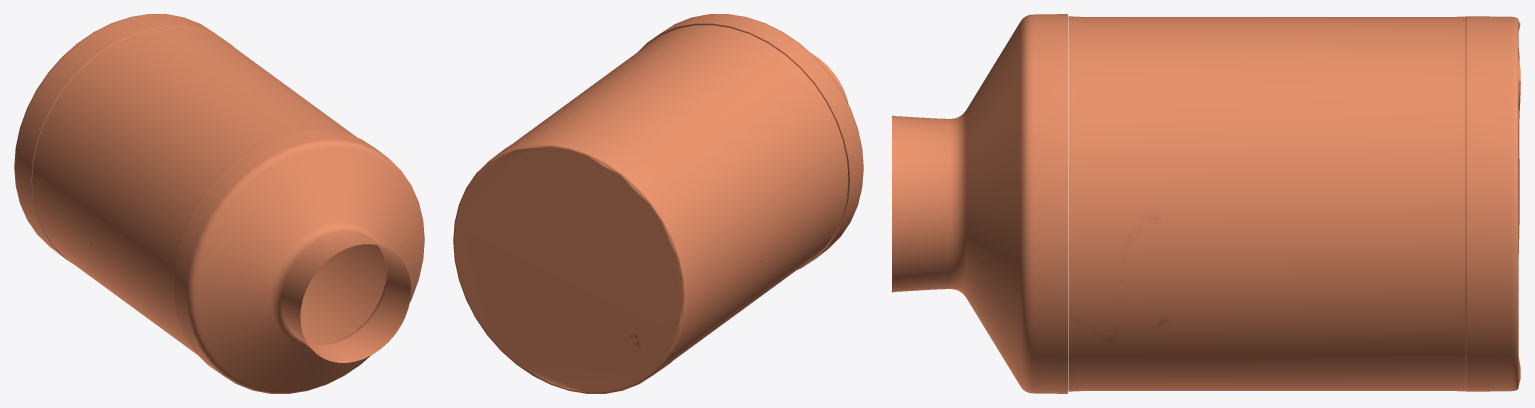
3 renders of one model, left to right at view 1: azimuth 30°, elevation 25°; view 2: azimuth 150°, elevation 25°; view 3: azimuth 270°, elevation 25°, orthographic. The views are drawn at different scales.
Bounding box in the file's own units: 0.5873 × 0.5873 × 0.971.
